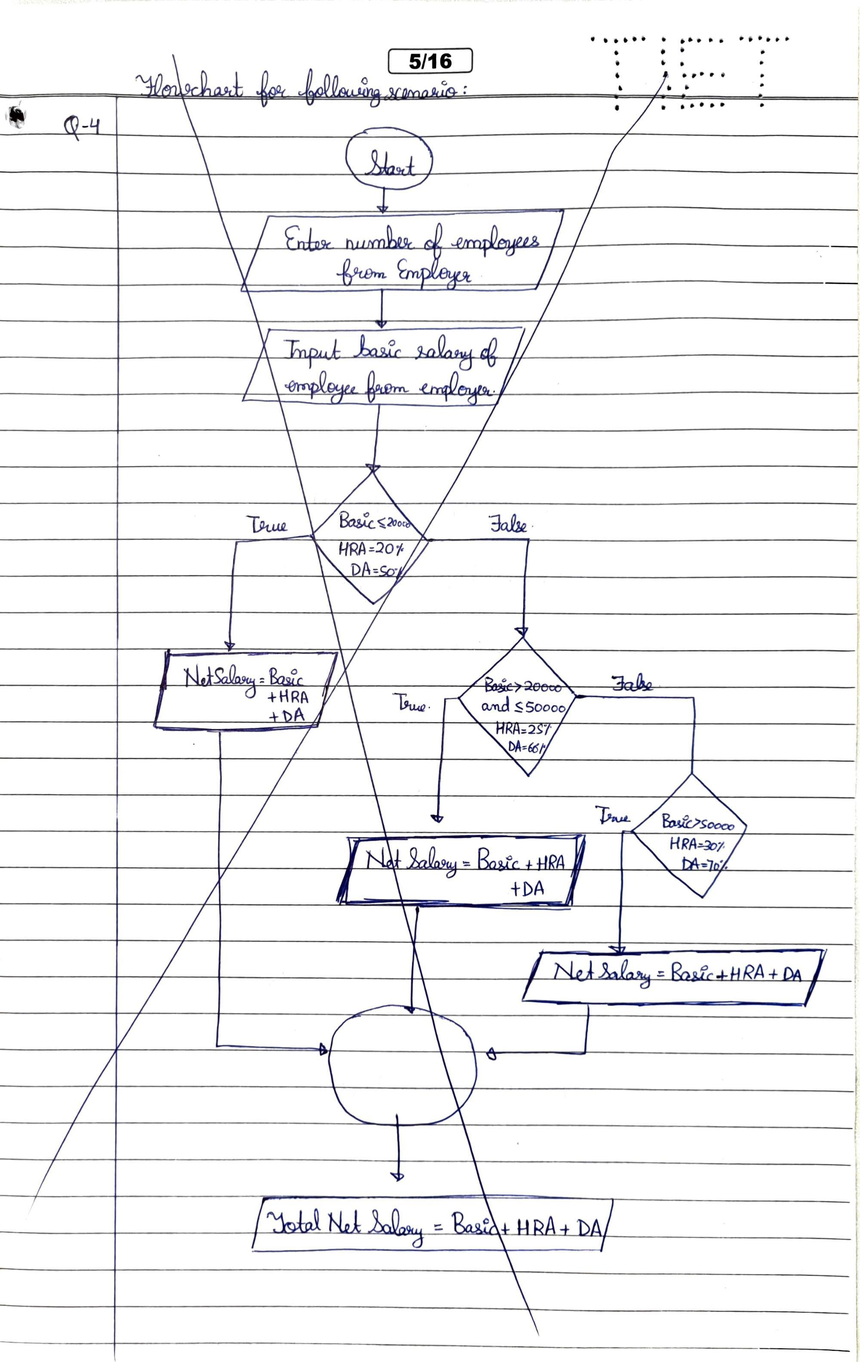cuttings: (31, 52, 829, 1339)
